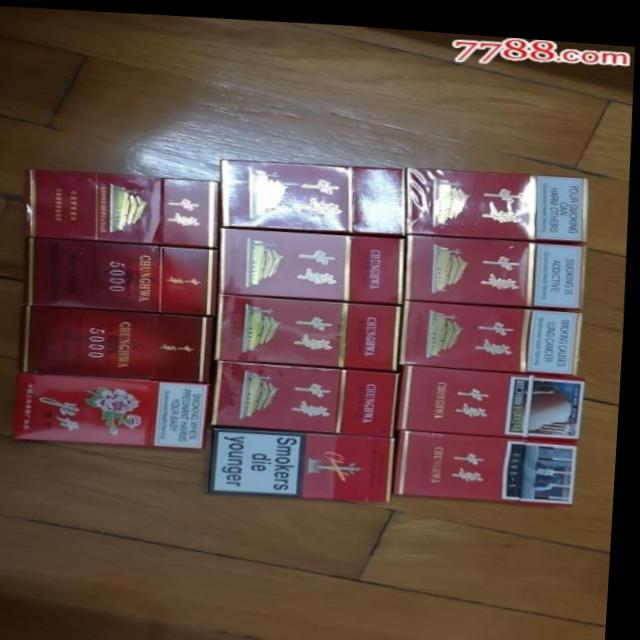box: (26, 168, 220, 245), (24, 236, 219, 312), (15, 371, 212, 445), (21, 305, 215, 379), (208, 421, 400, 495), (400, 359, 590, 433), (398, 423, 583, 499), (214, 357, 403, 431), (224, 222, 407, 297), (222, 155, 407, 228), (408, 161, 590, 235), (219, 291, 404, 363), (403, 293, 584, 366), (408, 229, 588, 299)
